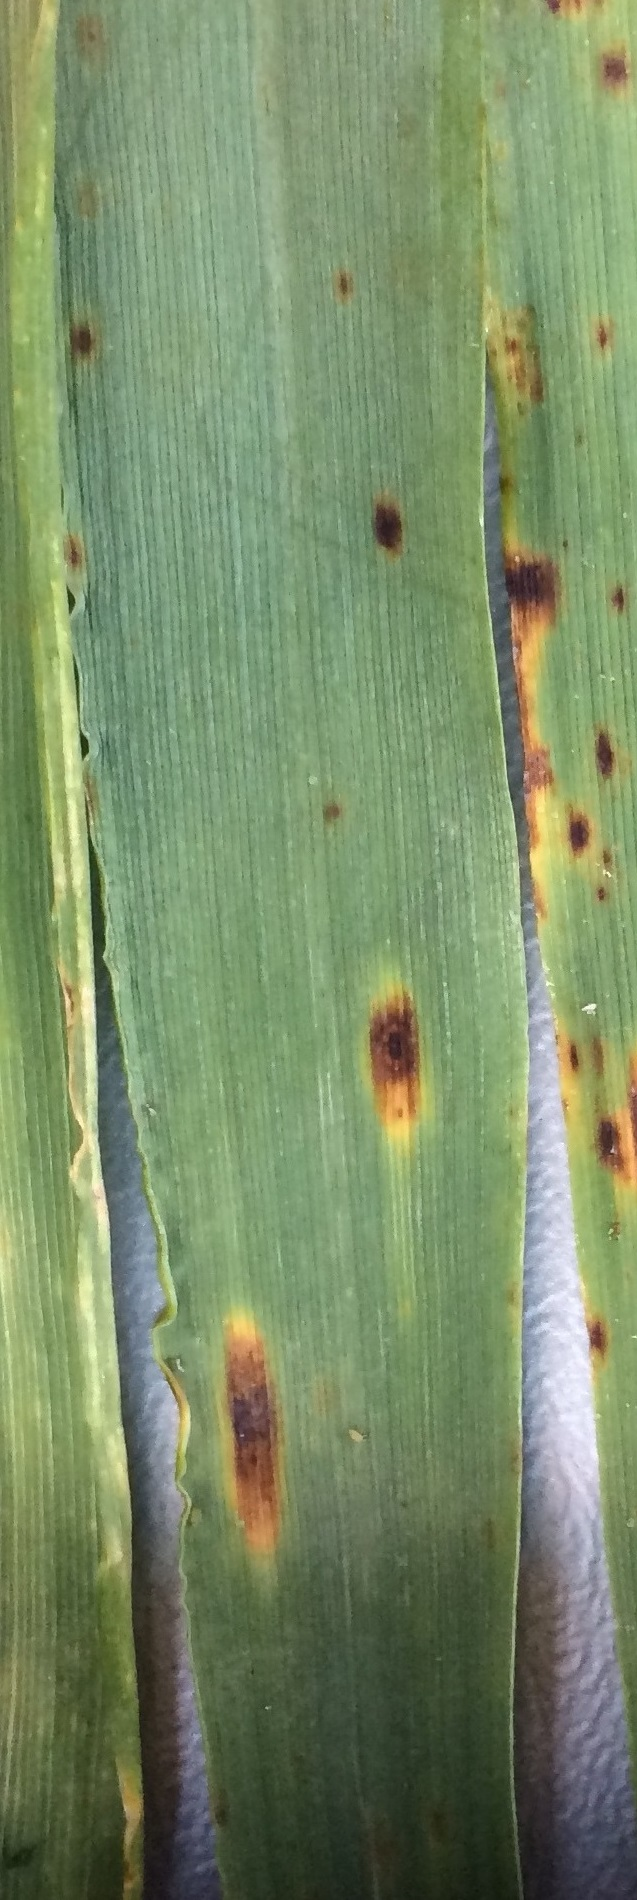Bercak Coklat: (179, 1280, 317, 1570), (340, 960, 449, 1133), (337, 467, 461, 610), (484, 510, 570, 633), (520, 783, 629, 874), (570, 13, 637, 121), (576, 683, 629, 783)
